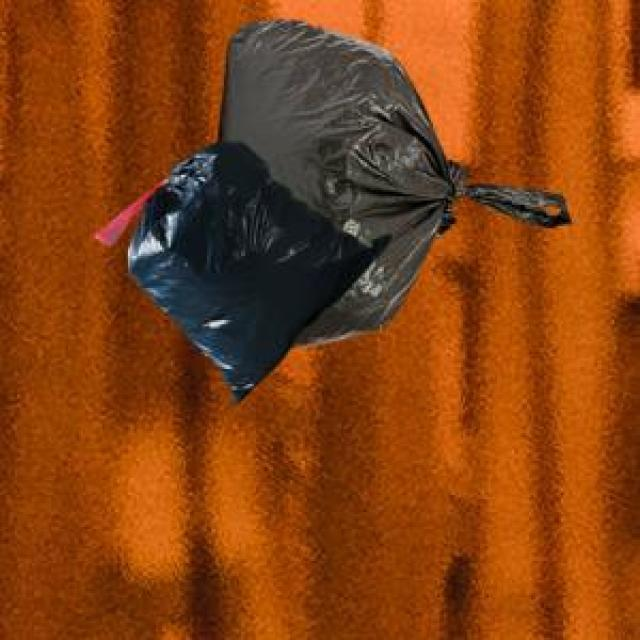Trashbag: (297, 13, 469, 354), (146, 151, 337, 371)
